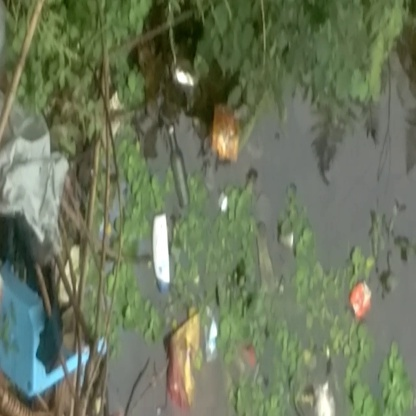bottle: (166, 119, 197, 204)
